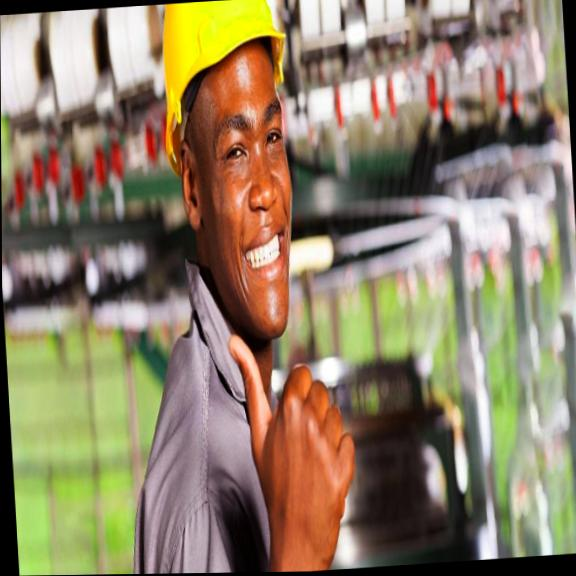no_safety_vest: (125, 297, 291, 574)
